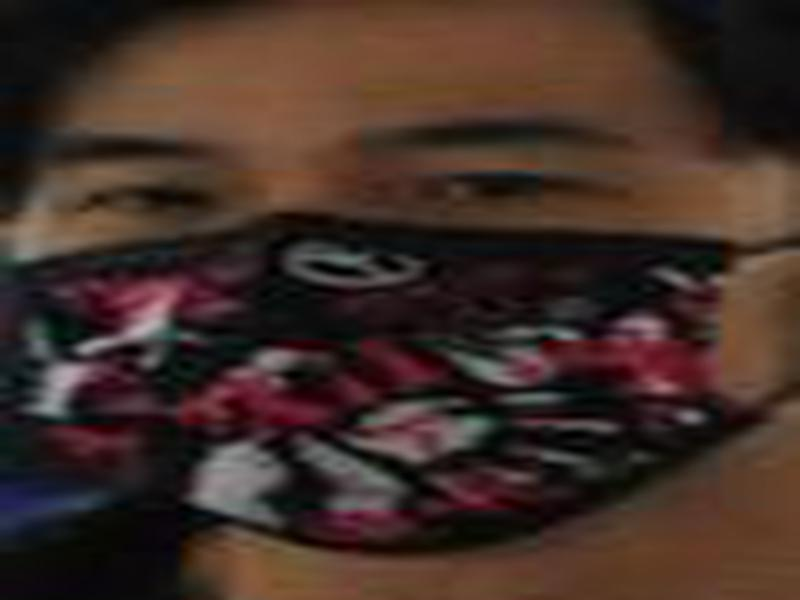with_mask: (1, 1, 795, 569)
